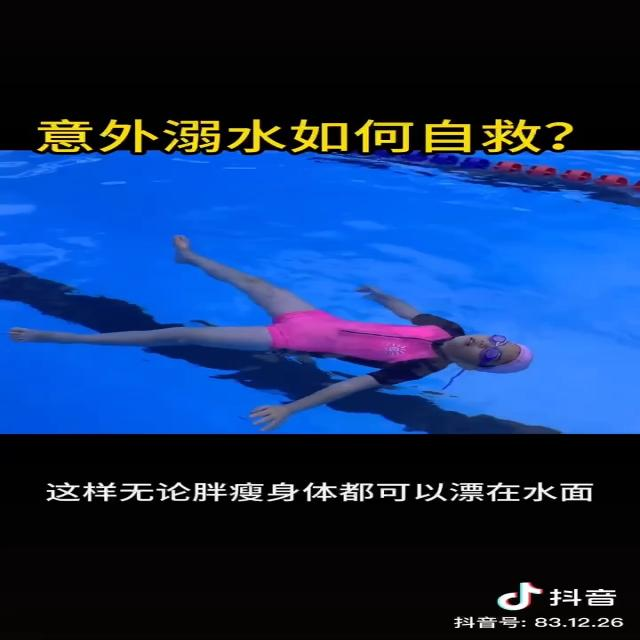Drowning: (10, 234, 535, 430)
